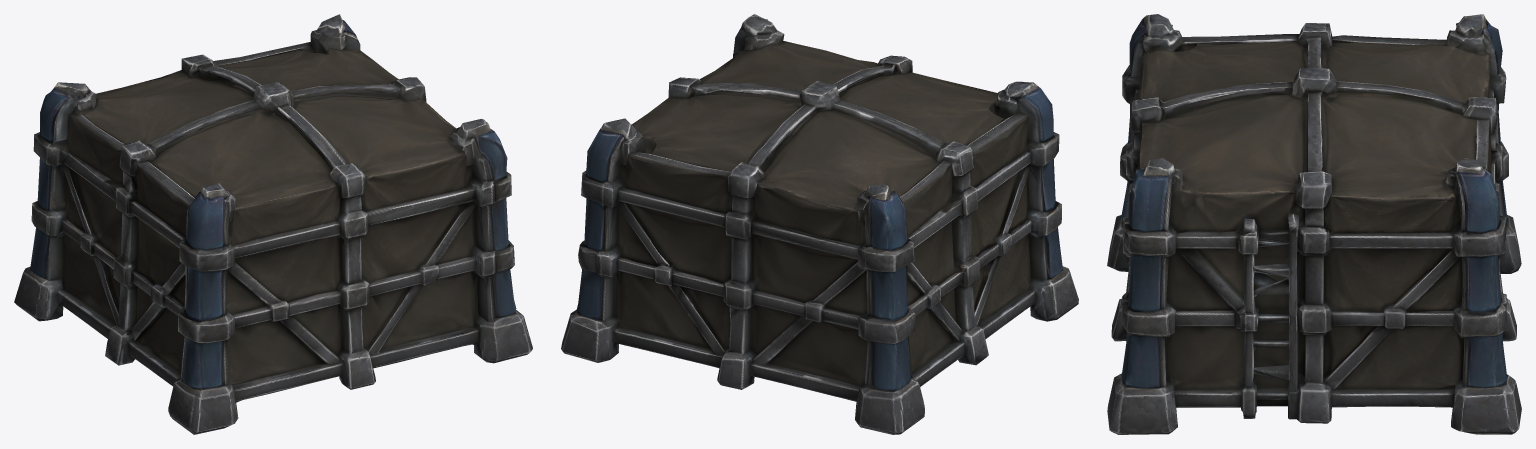
The model's file is source_2.glb.
3 renders of one model, left to right at view 1: azimuth 30°, elevation 25°; view 2: azimuth 150°, elevation 25°; view 3: azimuth 270°, elevation 25°, orthographic. The views are drawn at different scales.
Visible parts, largest first — view 1: tripo_node_e3e03370-2a97-4c5f-98fa-bd67b5c04e8e; view 2: tripo_node_e3e03370-2a97-4c5f-98fa-bd67b5c04e8e; view 3: tripo_node_e3e03370-2a97-4c5f-98fa-bd67b5c04e8e.
Boxes of the visible parts, box(x1,y1,x2,y2) form: tripo_node_e3e03370-2a97-4c5f-98fa-bd67b5c04e8e: box(14, 14, 532, 434); tripo_node_e3e03370-2a97-4c5f-98fa-bd67b5c04e8e: box(561, 14, 1078, 434); tripo_node_e3e03370-2a97-4c5f-98fa-bd67b5c04e8e: box(1107, 14, 1521, 434).
Size of the model in its own units: 0.9804 by 0.6549 by 0.9149.
Materials: 1 (1 with a texture image).
